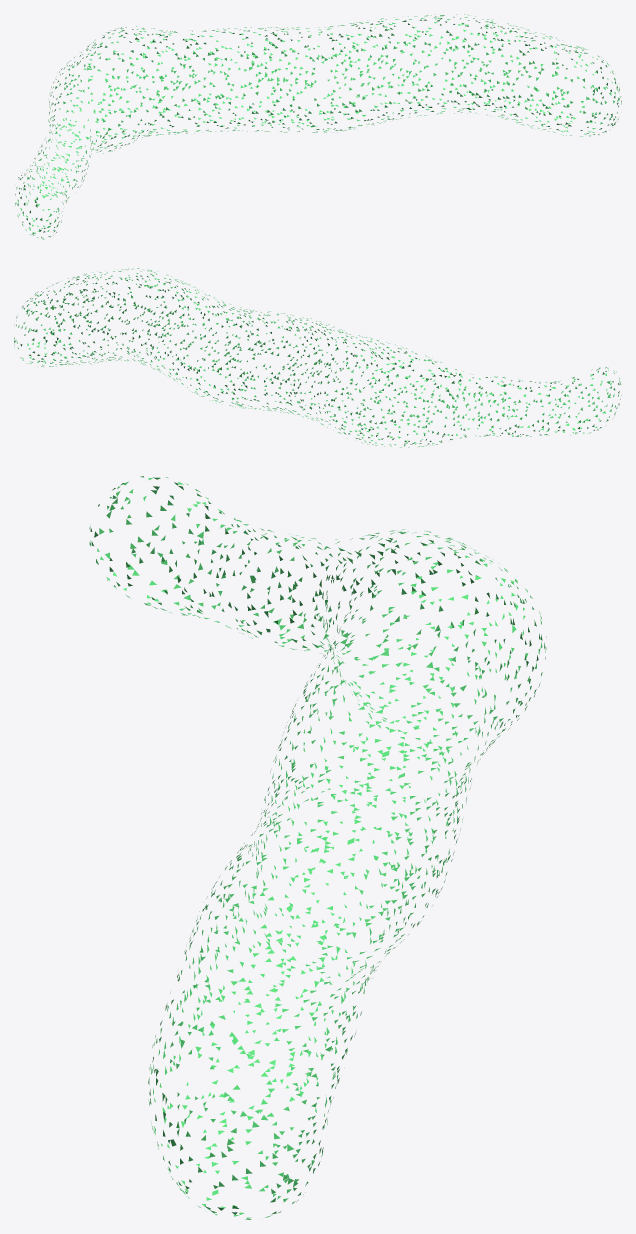
File: morph_020.glb
3 views of the same model, one above another, from view 1: azimuth 30°, elevation 25°; view 2: azimuth 150°, elevation 25°; view 3: azimuth 270°, elevation 25° (orthographic). The views are drawn at different scales.
Size of the model in its own units: 137 by 33.86 by 47.86.
